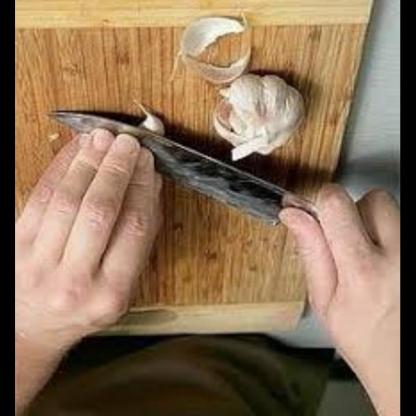garlic: (215, 71, 321, 167), (128, 100, 184, 148)
